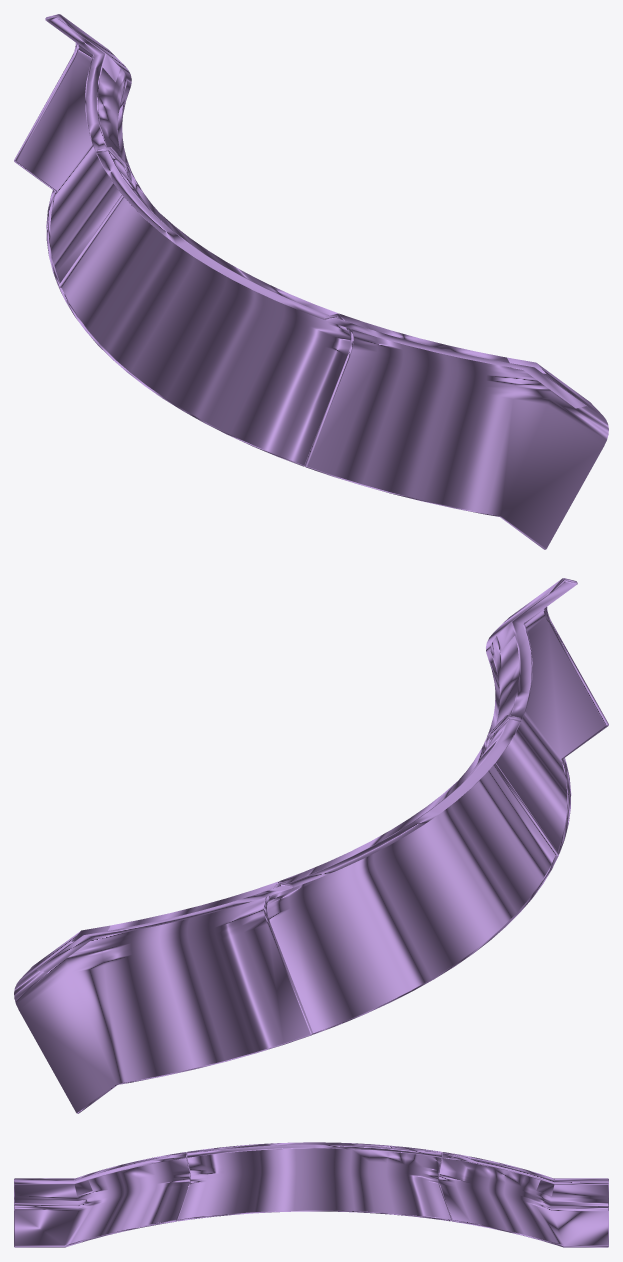
The model's file is greencircle_int_balcony_railings_glass_bend_a.glb.
3 views of the same model, one above another, from view 1: azimuth 30°, elevation 25°; view 2: azimuth 150°, elevation 25°; view 3: azimuth 270°, elevation 25° (orthographic). The views are drawn at different scales.
Bounding box in the file's own units: 1.58 × 1.05 × 7.34.
